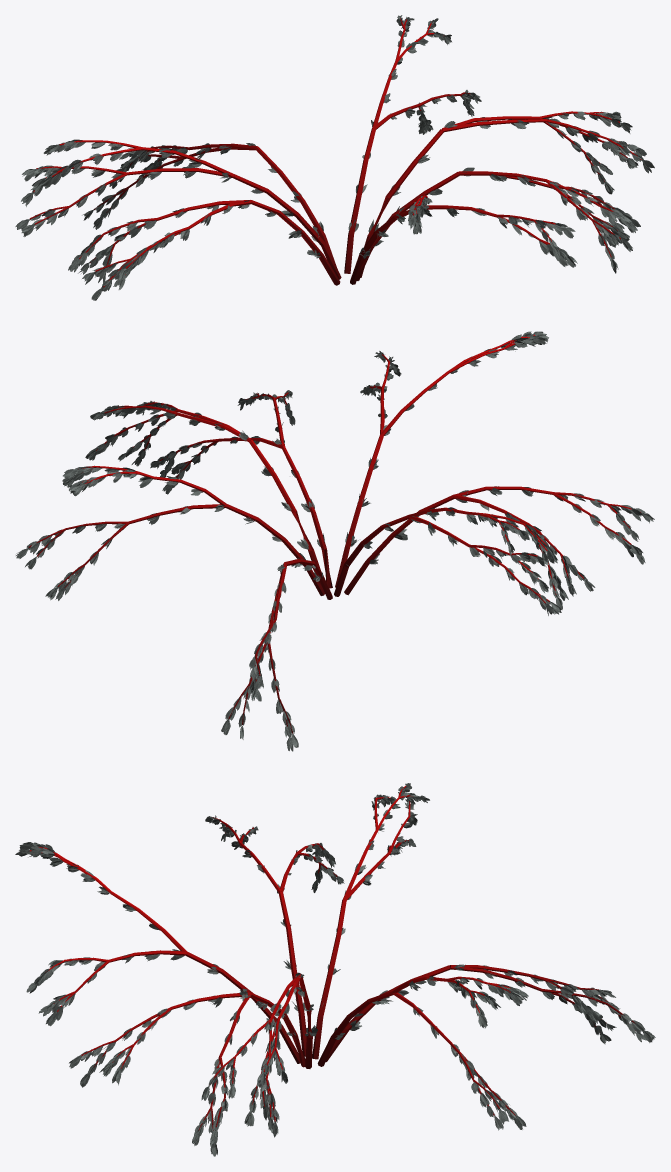
The model's file is willow_shrub_v02.fbx.
3 views of the same model, one above another, from view 1: azimuth 30°, elevation 25°; view 2: azimuth 150°, elevation 25°; view 3: azimuth 270°, elevation 25° (orthographic). The views are drawn at different scales.
Visible parts, largest first — view 1: willow_shrub_v02; view 2: willow_shrub_v02; view 3: willow_shrub_v02.
Boxes of the visible parts, x1,y1,x2,y2 form: willow_shrub_v02: [15, 15, 654, 300]; willow_shrub_v02: [16, 331, 654, 751]; willow_shrub_v02: [15, 783, 655, 1156].
Size of the model in its own units: 1075 by 395 by 1049.
